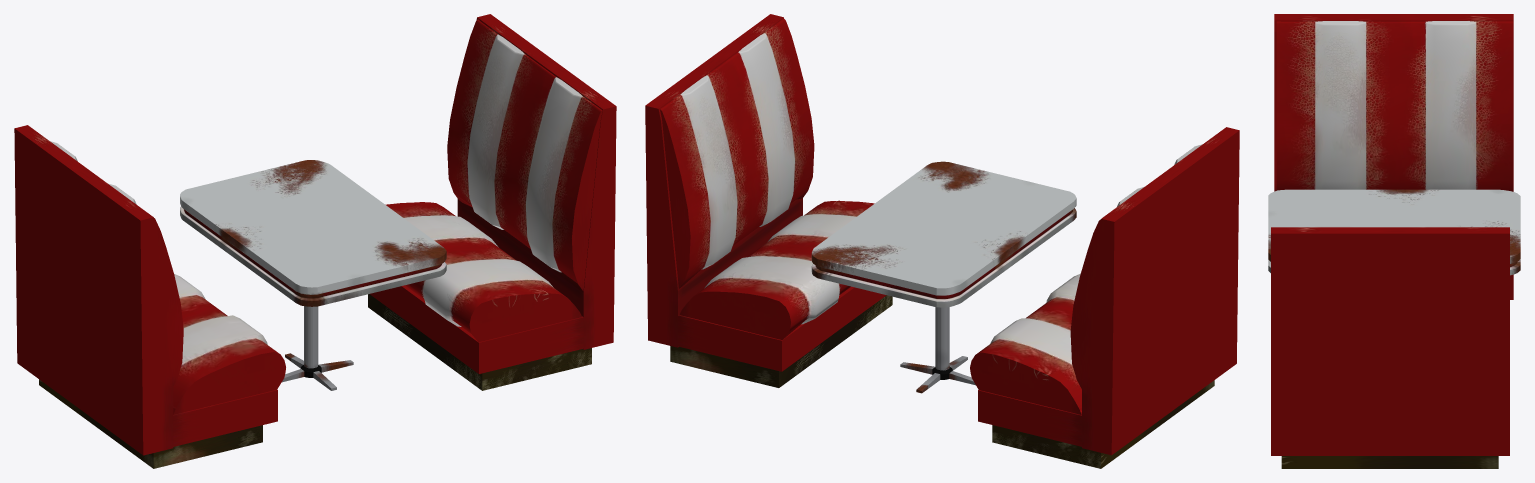
File: booth.glb
3 renders of one model, left to right at view 1: azimuth 30°, elevation 25°; view 2: azimuth 150°, elevation 25°; view 3: azimuth 270°, elevation 25°, orthographic. The views are drawn at different scales.
Parts seen in each view (by area): view 1: pCube15, pCube21, pCube1, pCube17, pCube19, pCube12, pCube20, pCube18, pCube13, pCube14, pCube16, pCylinder1; view 2: pCube15, pCube21, pCube1, pCube17, pCube19, pCube12, pCube20, pCube18, pCube13, pCube14, pCube16, pCylinder1; view 3: pCube19, pCube16, pCube1, pCube18, pCube15.
Part boxes in pixels (x1=…): pCube15: x1=14, y1=125, x2=173, y2=455; pCube21: x1=447, y1=19, x2=602, y2=290; pCube1: x1=180, y1=160, x2=446, y2=306; pCube17: x1=385, y1=202, x2=581, y2=342; pCube19: x1=457, y1=14, x2=616, y2=349; pCube12: x1=173, y1=274, x2=285, y2=414; pCube20: x1=370, y1=285, x2=583, y2=373; pCube18: x1=368, y1=294, x2=591, y2=390; pCube13: x1=173, y1=389, x2=277, y2=446; pCube14: x1=39, y1=379, x2=262, y2=468; pCube16: x1=50, y1=141, x2=183, y2=386; pCylinder1: x1=282, y1=306, x2=353, y2=390; pCube15: x1=1082, y1=127, x2=1239, y2=455; pCube21: x1=660, y1=18, x2=814, y2=288; pCube1: x1=811, y1=161, x2=1076, y2=307; pCube17: x1=679, y1=200, x2=874, y2=339; pCube19: x1=645, y1=14, x2=802, y2=347; pCube12: x1=970, y1=273, x2=1081, y2=414; pCube20: x1=677, y1=286, x2=886, y2=371; pCube18: x1=670, y1=295, x2=892, y2=387; pCube13: x1=978, y1=390, x2=1081, y2=446; pCube14: x1=992, y1=380, x2=1214, y2=468; pCube16: x1=1070, y1=144, x2=1202, y2=388; pCylinder1: x1=900, y1=307, x2=975, y2=393; pCube19: x1=1271, y1=227, x2=1509, y2=455; pCube16: x1=1276, y1=21, x2=1513, y2=191; pCube1: x1=1268, y1=189, x2=1520, y2=275; pCube18: x1=1281, y1=456, x2=1498, y2=468; pCube15: x1=1274, y1=14, x2=1513, y2=191.
Size of the model in its own units: 2.12 by 1.1 by 1.03.
3 materials, 3 textured.
